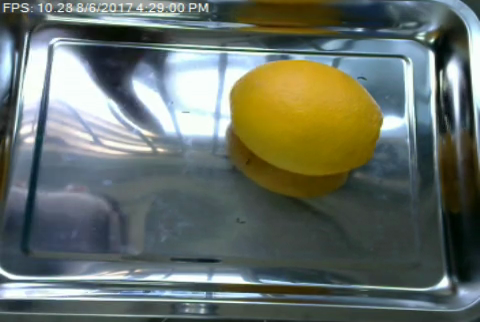Orange: (229, 60, 384, 176)
